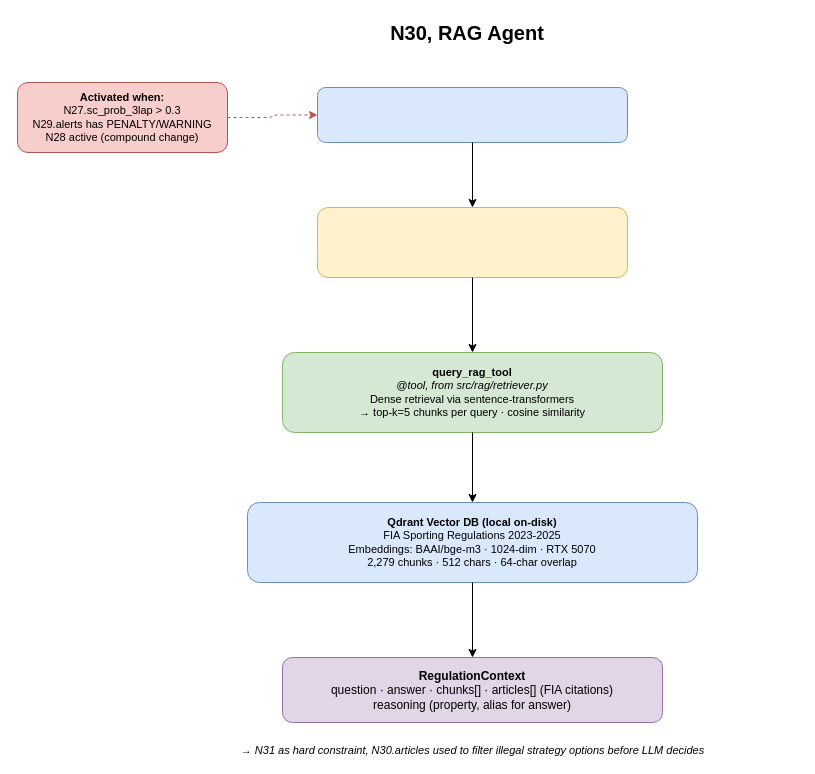
Some shapes in this 815 by 774 pixel diagram are drawn without their labels. Here are the shapes that lost their labels. From the top down, the centre of each, then its label:
At (472,114): "Input, question (natural language) From N31 Orchestrator".
At (472,242): "LangGraph ReAct Agent Local/Cloud LLM Multi-query retrieval loop".
